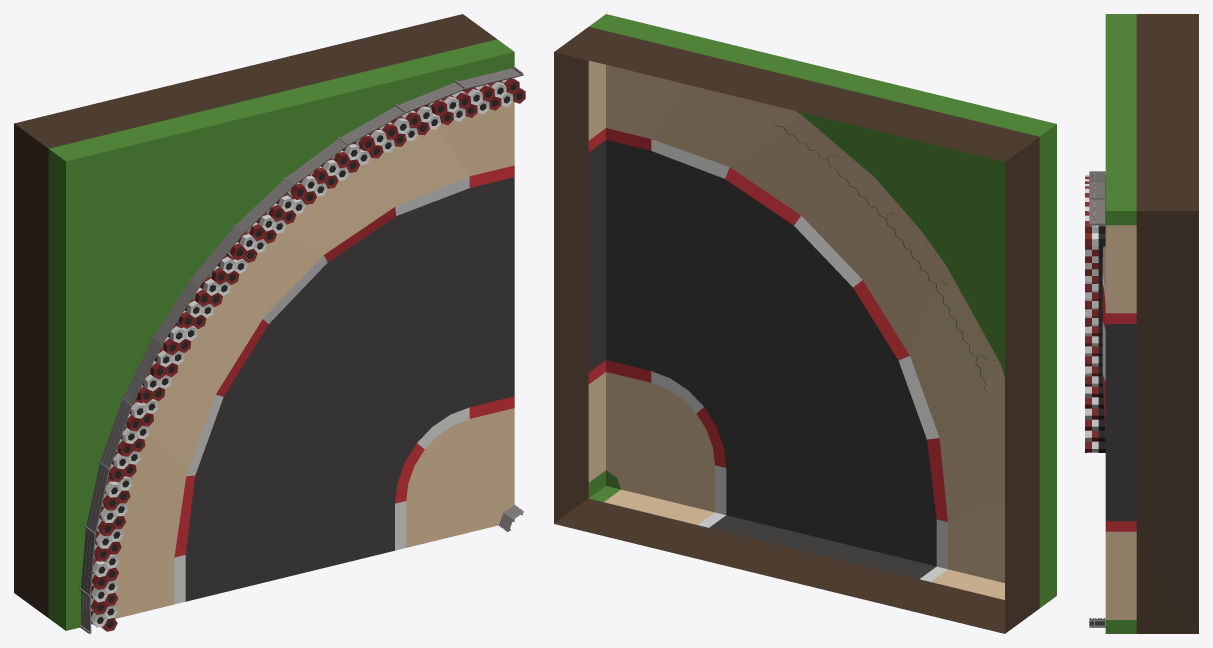
File: race_dirt_curve.glb
The picture shows the model from 3 angles, left to right: view 1: azimuth 30°, elevation 25°; view 2: azimuth 150°, elevation 25°; view 3: azimuth 270°, elevation 25°; orthographic projection. The views are drawn at different scales.
Parts seen in each view (by area): view 1: tile-race-track-sand-curve; view 2: tile-race-track-sand-curve; view 3: tile-race-track-sand-curve.
Boxes of the visible parts, x1=… form: tile-race-track-sand-curve: x1=14, y1=14, x2=525, y2=633; tile-race-track-sand-curve: x1=554, y1=14, x2=1056, y2=633; tile-race-track-sand-curve: x1=1085, y1=14, x2=1198, y2=633.
Size of the model in its own units: 30.01 by 30 by 7.32.
Materials: 1 (1 with a texture image).
